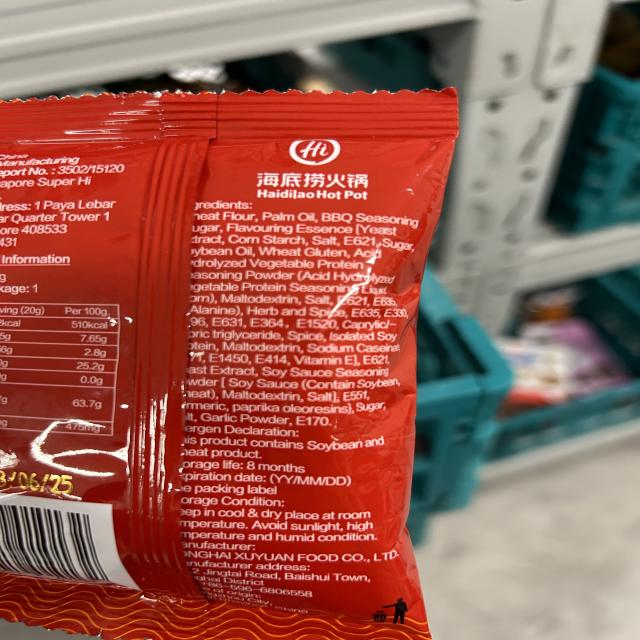object_name: (4, 92, 417, 634)
